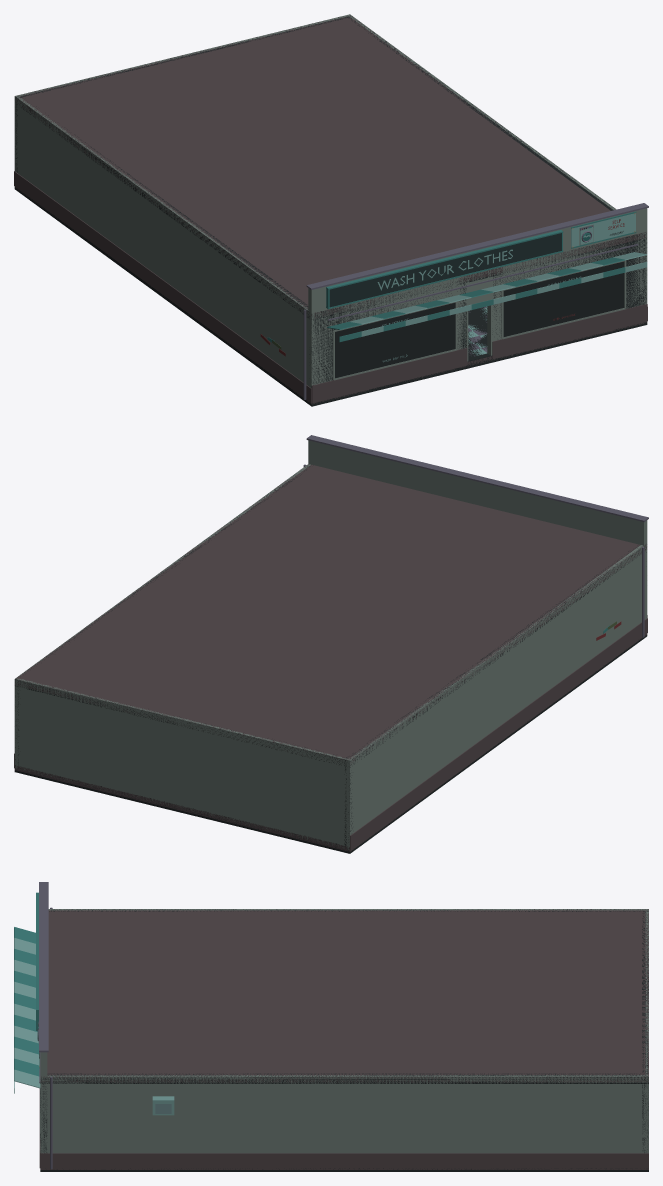
File: casino_cladire.glb
The picture shows the model from 3 angles, top to bottom: view 1: azimuth 30°, elevation 25°; view 2: azimuth 150°, elevation 25°; view 3: azimuth 270°, elevation 25°; orthographic projection. The views are drawn at different scales.
Visible parts, largest first — view 1: Cladire, Coliziune; view 2: Cladire, Coliziune; view 3: Cladire, Coliziune.
Part boxes in pixels (left/top/right/bottom): Cladire: left=14, top=14, right=648, bottom=404; Coliziune: left=14, top=15, right=647, bottom=406; Cladire: left=14, top=435, right=648, bottom=851; Coliziune: left=14, top=464, right=647, bottom=853; Cladire: left=14, top=882, right=648, bottom=1169; Coliziune: left=40, top=909, right=648, bottom=1171.
Size of the model in its own units: 14.97 by 4.91 by 23.21.
